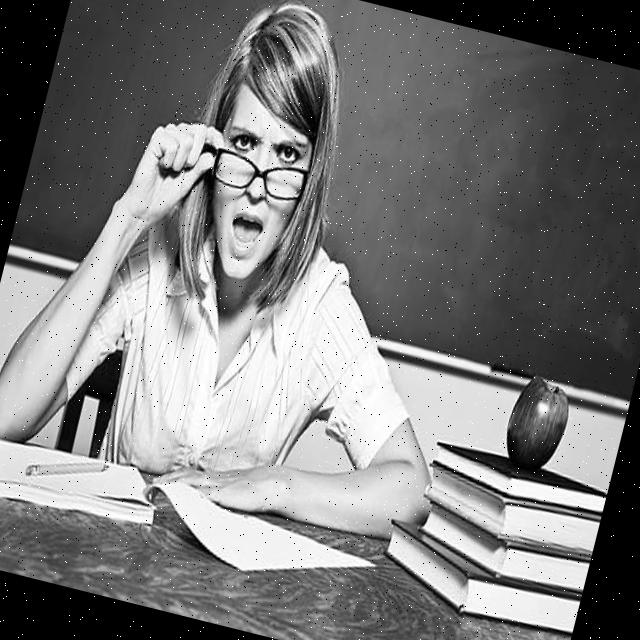Angry: (190, 81, 324, 288)
